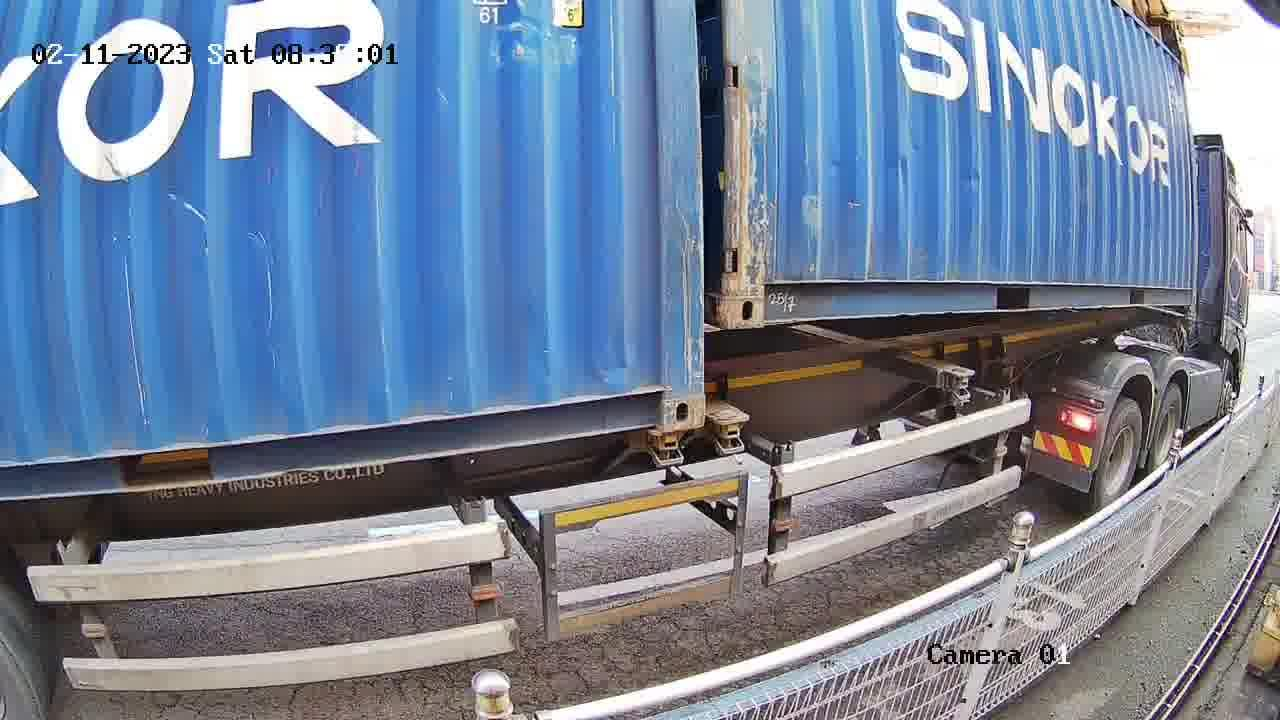Cone: (709, 407, 748, 460), (643, 430, 688, 471)
Hole_L: (720, 261, 801, 330)
Hole_R: (621, 353, 705, 430)
Tire: (1095, 402, 1141, 507), (1148, 384, 1181, 480)
